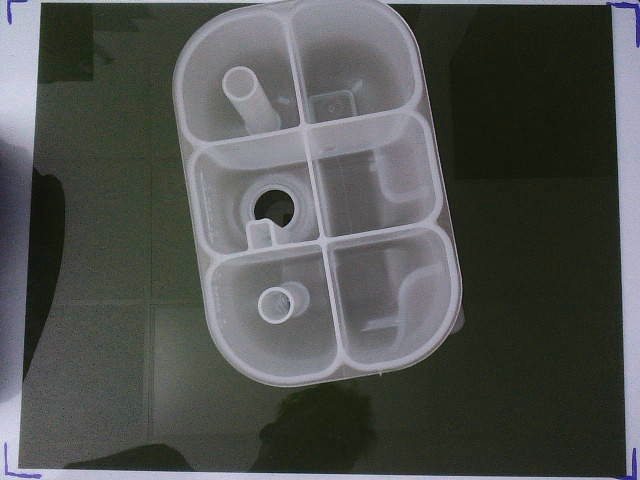reservoir_transparent_Under: (171, 1, 464, 387)
